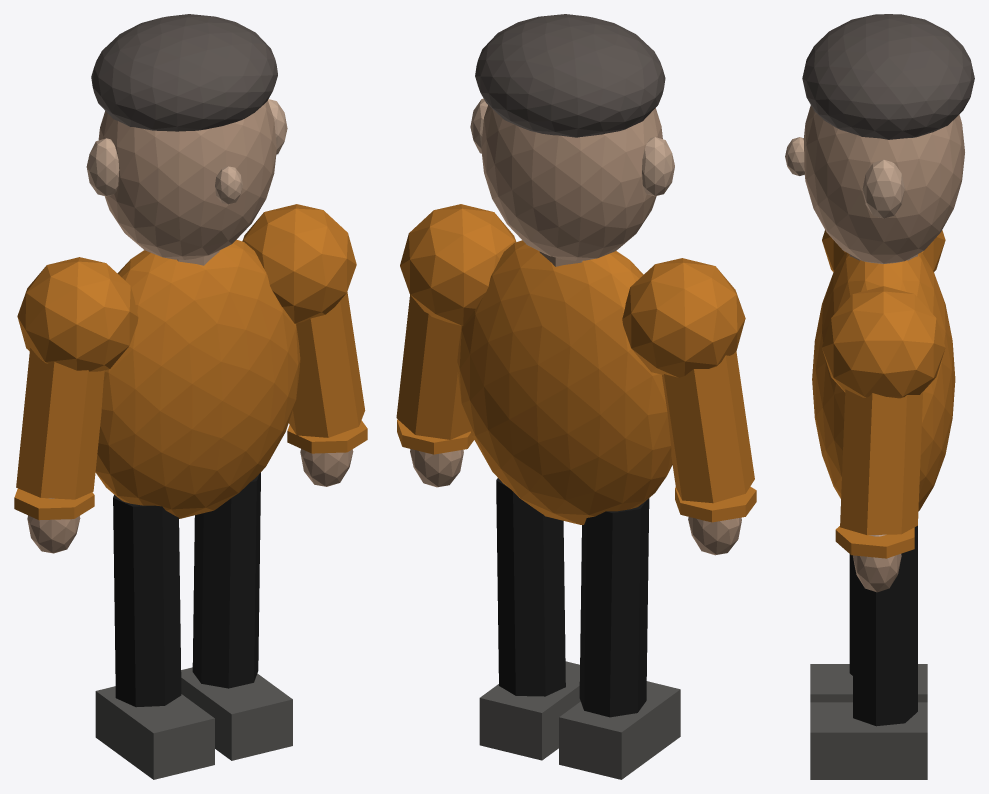
The model's file is ped_2.glb.
3 views of the same model, side by side, from view 1: azimuth 30°, elevation 25°; view 2: azimuth 150°, elevation 25°; view 3: azimuth 270°, elevation 25° (orthographic).
Visible parts, largest first — view 1: body, armR, legR, armL, legL; view 2: body, armR, legR, armL, legL; view 3: body, armL, legL, legR, armR.
Part boxes in pixels (box(x1,y1,x2,y2)): body: box(86, 14, 300, 518); armR: box(14, 257, 138, 553); legR: box(95, 494, 214, 779); armL: box(242, 204, 367, 486); legL: box(181, 472, 292, 760); body: box(457, 14, 674, 524); armR: box(622, 258, 756, 555); legR: box(559, 498, 680, 779); armL: box(396, 204, 516, 487); legL: box(479, 478, 580, 760); body: box(785, 14, 974, 511); armL: box(822, 286, 945, 592); legL: box(810, 525, 927, 779); legR: box(810, 554, 927, 702); armR: box(822, 230, 945, 271).
Size of the model in its own units: 0.8703 by 1.72 by 0.4127.
